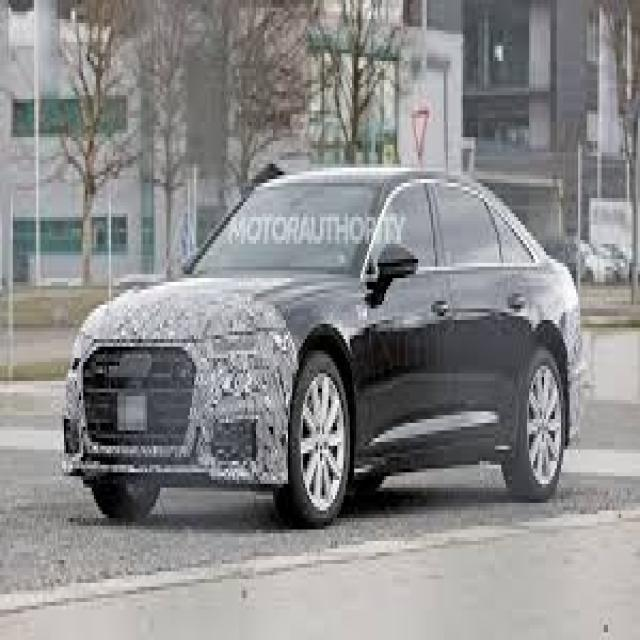black: (64, 166, 592, 515)
